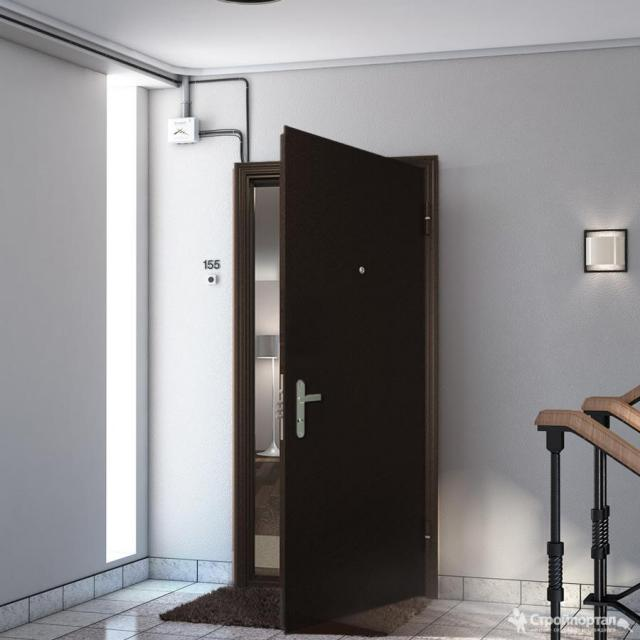open: (238, 158, 437, 612)
